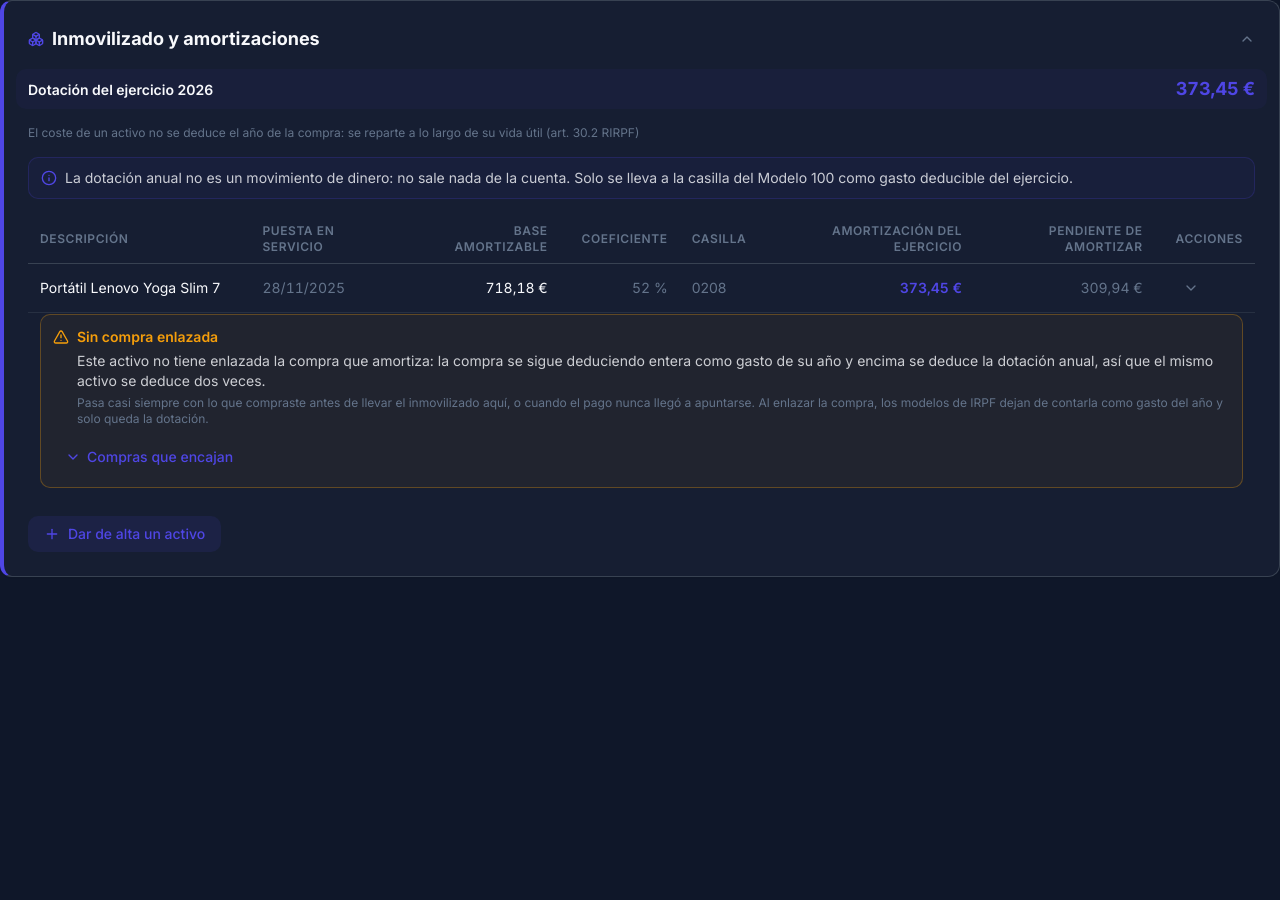
FixedAssetsCard — unlinked purchase › the candidates › shows enough of each movement to recognise it
The image size is (1280, 900).
Click the button "Compras que encajan" at (149, 457), box [53,439,245,475]
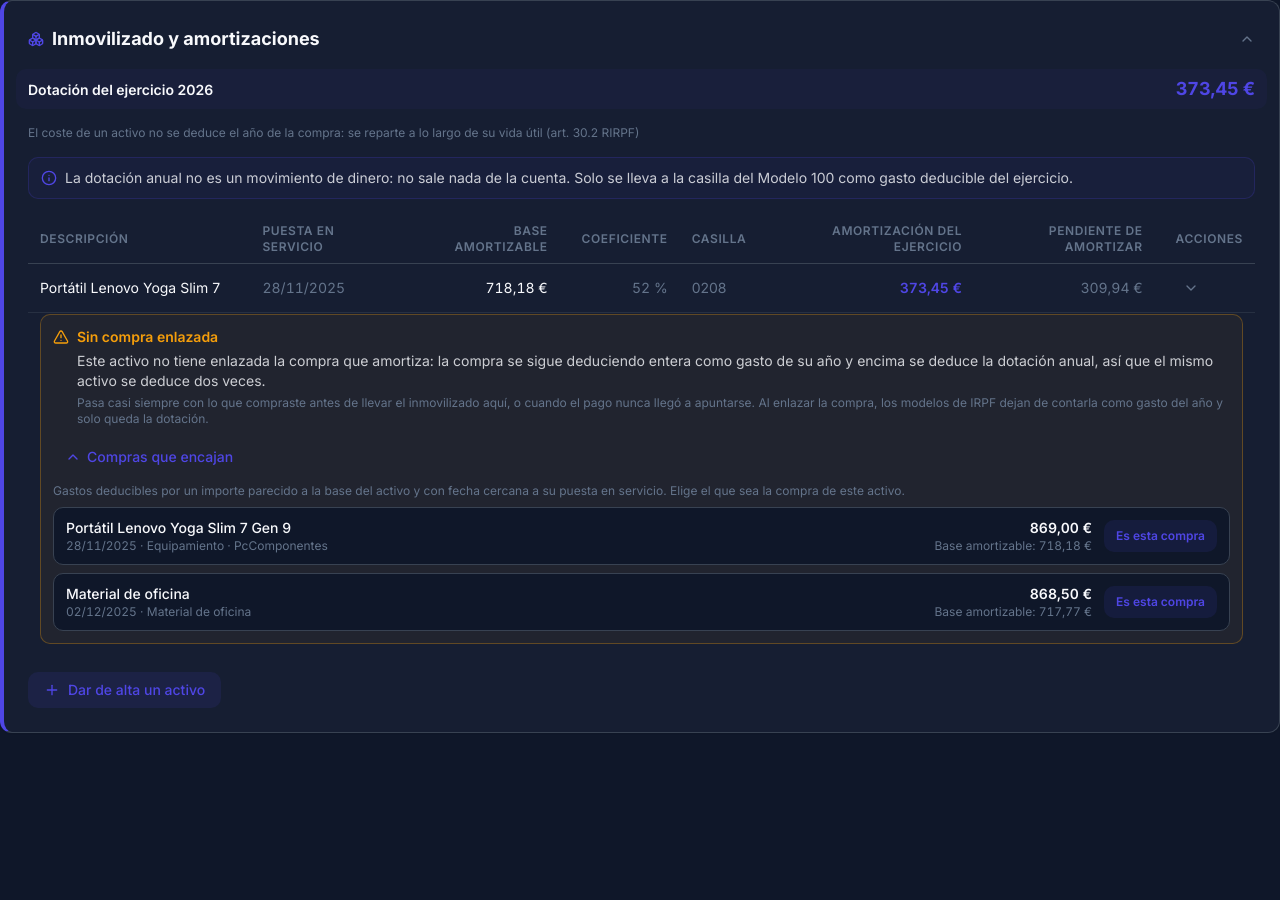
Expected: the text "Portátil Lenovo Yoga Slim 7 Gen 9" is shown, [66,518,328,538]
Expected: the text "869,00 €" is shown, [1030,519,1092,536]
Expected: the text "28/11/2025 · Equipamiento · PcComponentes" is shown, [66,538,328,554]
